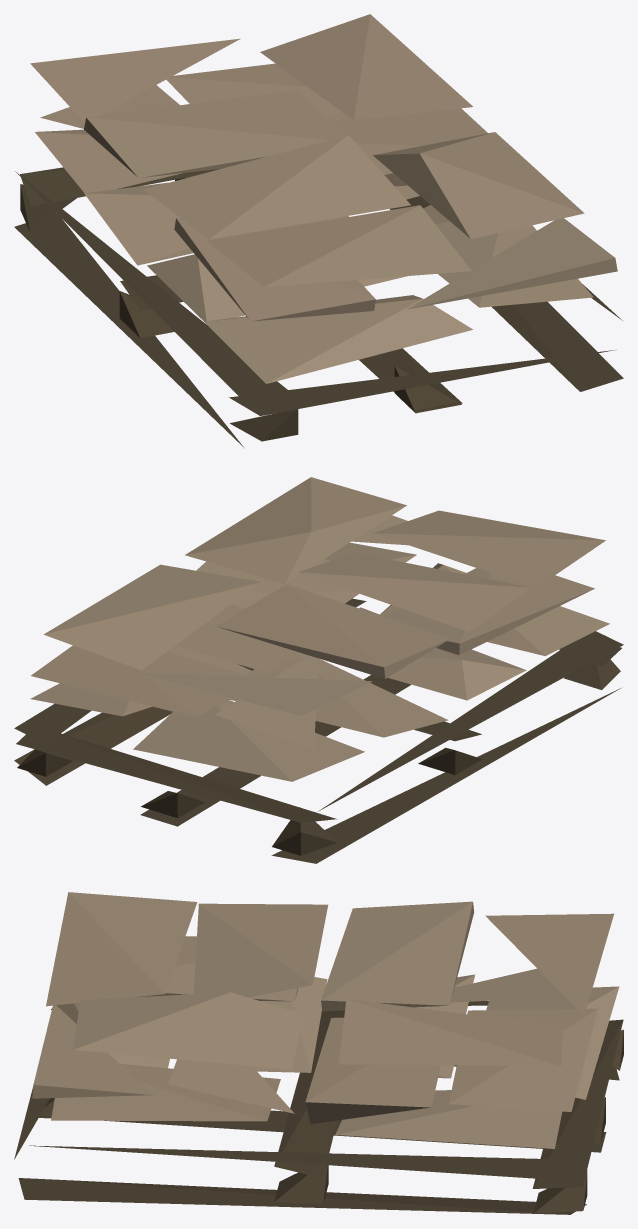
Rendered from cement-pallet.lod2.glb.
3 renders of one model, top to bottom at view 1: azimuth 30°, elevation 25°; view 2: azimuth 150°, elevation 25°; view 3: azimuth 270°, elevation 25°, orthographic. The views are drawn at different scales.
Parts seen in each view (by area): view 1: Pallet1.002_Wood1_0; view 2: Pallet1.002_Wood1_0; view 3: Pallet1.002_Wood1_0.
Part boxes in pixels (bbox=[...]): Pallet1.002_Wood1_0: bbox=[14, 14, 623, 448]; Pallet1.002_Wood1_0: bbox=[14, 477, 623, 863]; Pallet1.002_Wood1_0: bbox=[14, 892, 623, 1214].
Bounding box in the file's own units: 0.9665 × 0.382 × 1.3.
